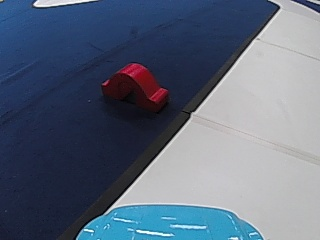bridge: (99, 60, 172, 114)
